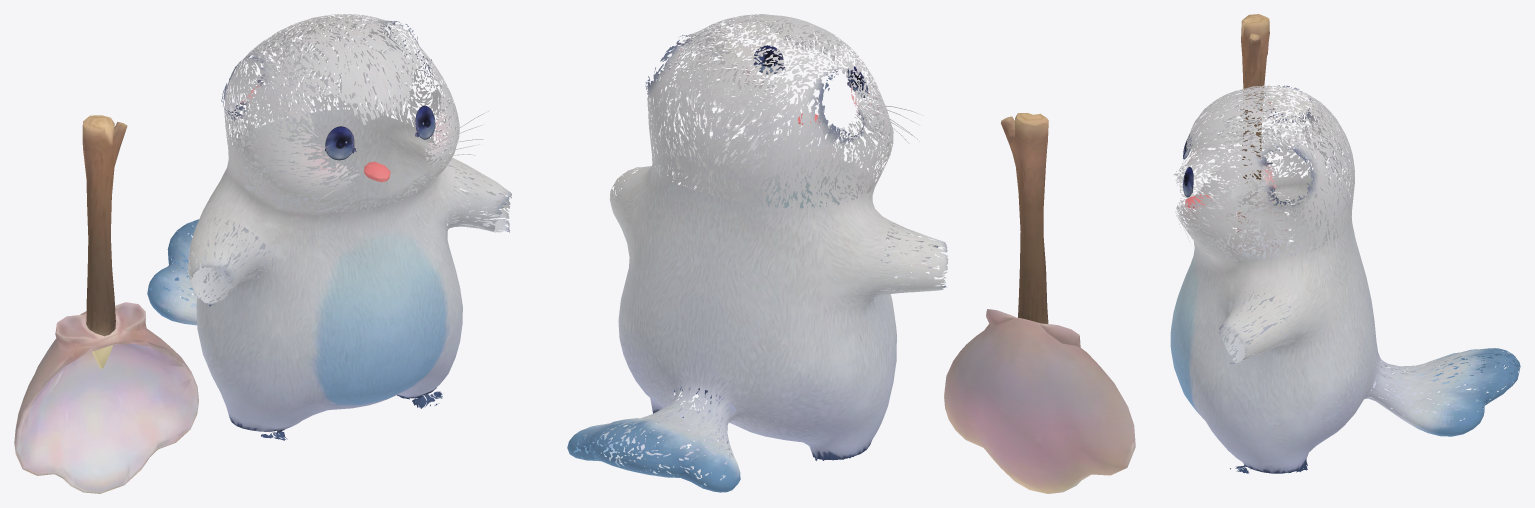
File: susuta.glb
3 renders of one model, left to right at view 1: azimuth 30°, elevation 25°; view 2: azimuth 150°, elevation 25°; view 3: azimuth 270°, elevation 25°, orthographic. The views are drawn at different scales.
Parts seen in each view (by area): view 1: M_Parmon_10171_Body_LOD1_655476761.obj, M_Parmon_10171_Body01_LOD1_655476761.obj, M_Parmon_10171_Eye_LOD1_655476761.obj; view 2: M_Parmon_10171_Body_LOD1_655476761.obj, M_Parmon_10171_Body01_LOD1_655476761.obj; view 3: M_Parmon_10171_Body_LOD1_655476761.obj, M_Parmon_10171_Body01_LOD1_655476761.obj.
Part boxes in pixels (x1,y1,x2,y2): M_Parmon_10171_Body_LOD1_655476761.obj: (147,14,511,440); M_Parmon_10171_Body01_LOD1_655476761.obj: (14,115,198,493); M_Parmon_10171_Eye_LOD1_655476761.obj: (325,105,435,160); M_Parmon_10171_Body_LOD1_655476761.obj: (567,14,948,492); M_Parmon_10171_Body01_LOD1_655476761.obj: (944,113,1135,493); M_Parmon_10171_Body_LOD1_655476761.obj: (1170,85,1520,473); M_Parmon_10171_Body01_LOD1_655476761.obj: (1237,14,1287,254).
Size of the model in its own units: 1.15 by 0.8754 by 0.7962.
2 materials, 2 textured.
